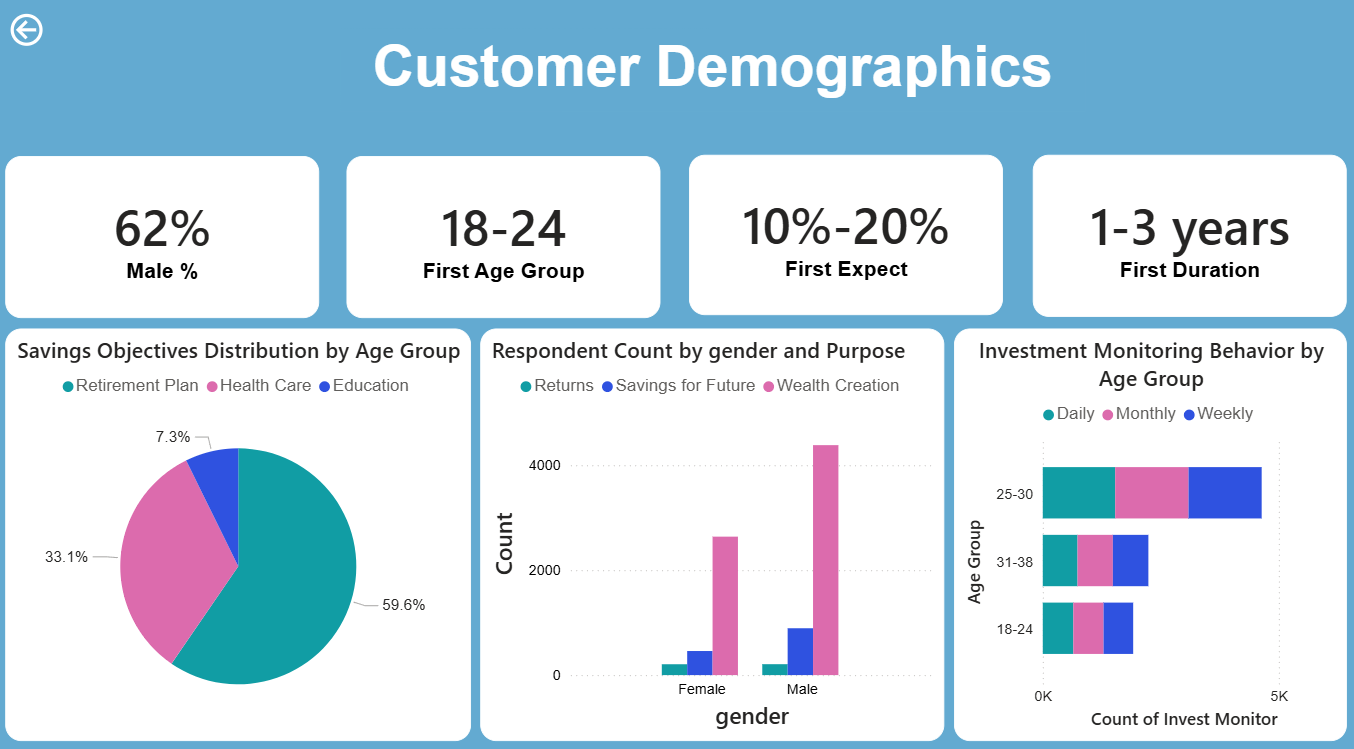

The dashboard page shown, as its layout file describes it:
{"tool":"powerbi","page":{"name":"Customer Demographics","canvas":[1280,720],"ordinal":2},"visuals":[{"type":"pieChart","title":"Savings Objectives Distribution by Age Group","fields":{"Category":["final_data.Savings_Objective"],"Y":["CountNonNull(final_data.age_group)"]},"box":[15.7,319.7,434.3,384.9],"z":0},{"type":"clusteredColumnChart","fields":{"Category":["final_data.gender"],"Y":["final_data.Respondent Count"],"Series":["final_data.Purpose"]},"box":[458.4,319.7,433.1,384.9],"z":1000},{"type":"barChart","title":"Investment Monitoring Behavior by Age Group","fields":{"Category":["final_data.age_group"],"Y":["CountNonNull(final_data.Invest_Monitor)"],"Series":["final_data.Invest_Monitor"]},"box":[900,319.7,366.8,384.9],"z":2000},{"type":"textbox","box":[328.2,39.8,694.9,77.2],"z":3000},{"type":"card","fields":{"Values":["final_data.Male %"]},"box":[15.7,158,293.2,150.8],"z":4000},{"type":"card","title":"First Age Group","fields":{"Values":["Min(final_data.age_group)"]},"box":[333,158,293.2,150.8],"z":5000},{"type":"card","fields":{"Values":["Min(final_data.Duration)"]},"box":[973.6,156.8,293.2,150.8],"z":6000},{"type":"card","fields":{"Values":["Min(final_data.Expect)"]},"box":[652.7,156.8,293.2,149.6],"z":7000},{"type":"actionButton","box":[15.7,20.5,44.6,39.8],"z":8000}]}

Visuals, with their boxes in screenshot pixels (x1, y1, x2, y2), scaled from the page's 1280x720 canvas onto the 1354x749 screenshot:
"Savings Objectives Distribution by Age Group" pieChart: left=17, top=333, right=476, bottom=733
clusteredColumnChart - final_data.gender x final_data.Respondent Count: left=485, top=333, right=943, bottom=733
"Investment Monitoring Behavior by Age Group" barChart: left=952, top=333, right=1340, bottom=733
textbox: left=347, top=41, right=1082, bottom=122
card - final_data.Male %: left=17, top=164, right=327, bottom=321
"First Age Group" card: left=352, top=164, right=662, bottom=321
card - Min(final_data.Duration): left=1030, top=163, right=1340, bottom=320
card - Min(final_data.Expect): left=690, top=163, right=1001, bottom=319
actionButton: left=17, top=21, right=64, bottom=63
